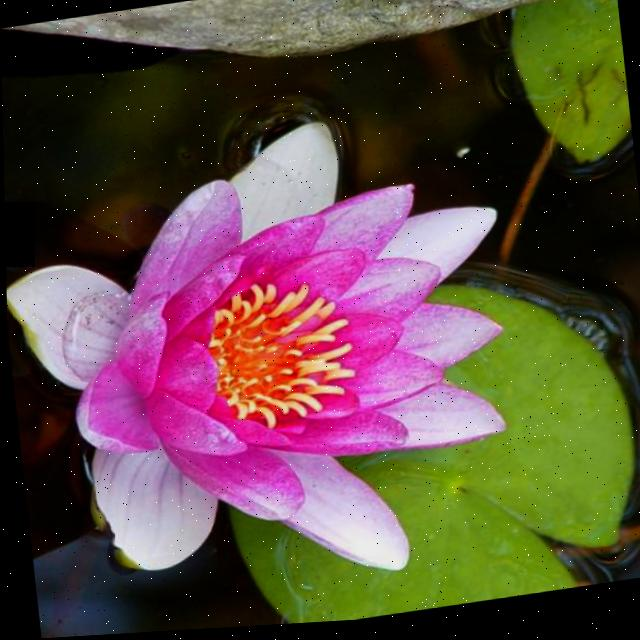water-lily: (2, 75, 566, 640)
